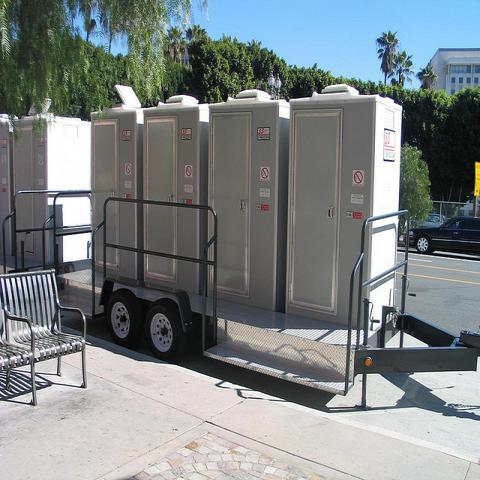car: (409, 217, 479, 257), (421, 213, 448, 227)
truck: (0, 82, 479, 414)
